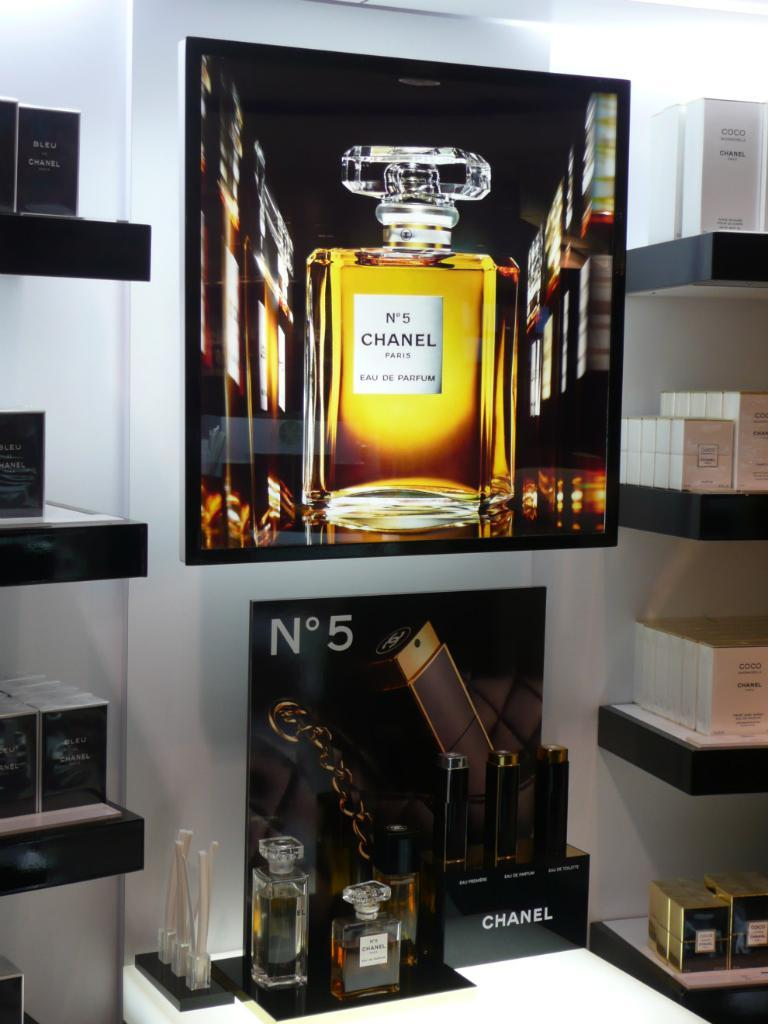Computer-monitor: (179, 33, 631, 565)
